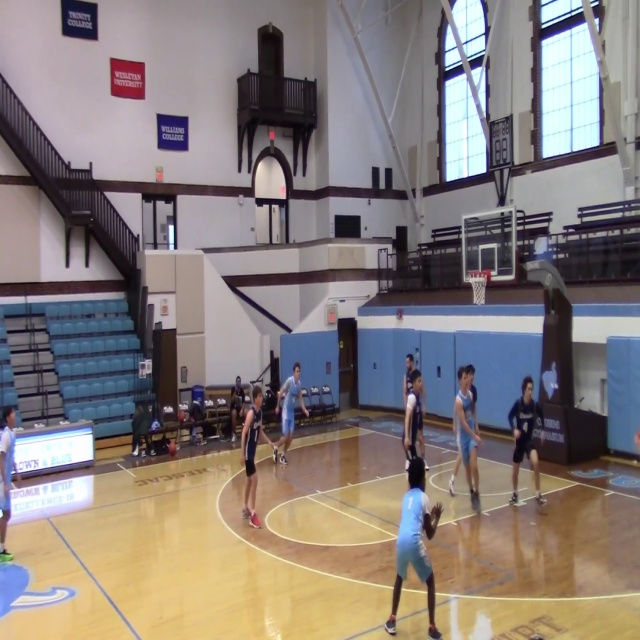Basketball: (168, 443, 177, 456), (635, 430, 640, 444)
